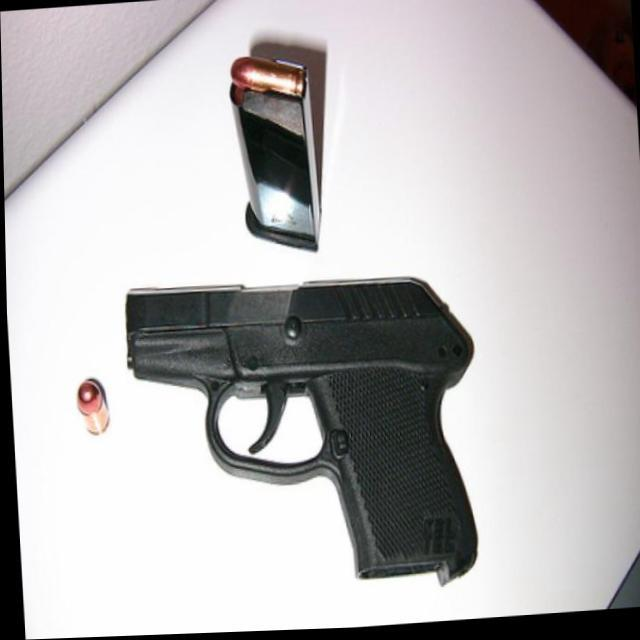weapon: (120, 264, 485, 608)
